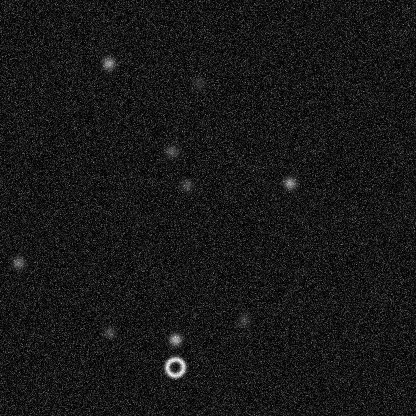Ring: (162, 355, 186, 379)
Spot: (178, 177, 194, 193), (100, 55, 116, 71), (10, 254, 26, 270), (281, 175, 297, 191), (235, 311, 251, 327), (101, 324, 117, 340), (167, 331, 183, 347), (190, 74, 206, 90), (163, 143, 179, 159)
